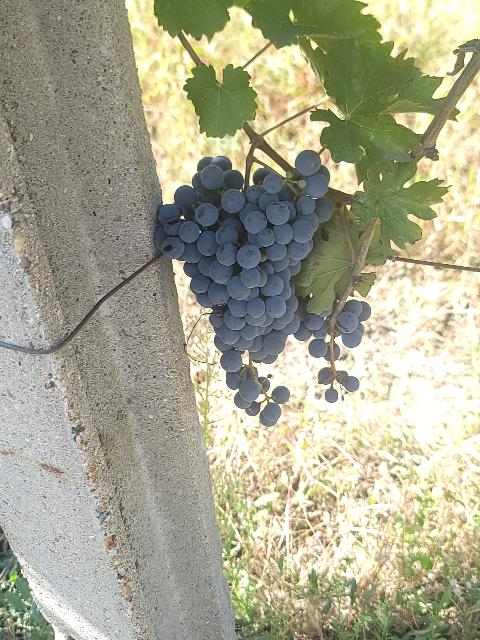grapes: (155, 151, 331, 426)
